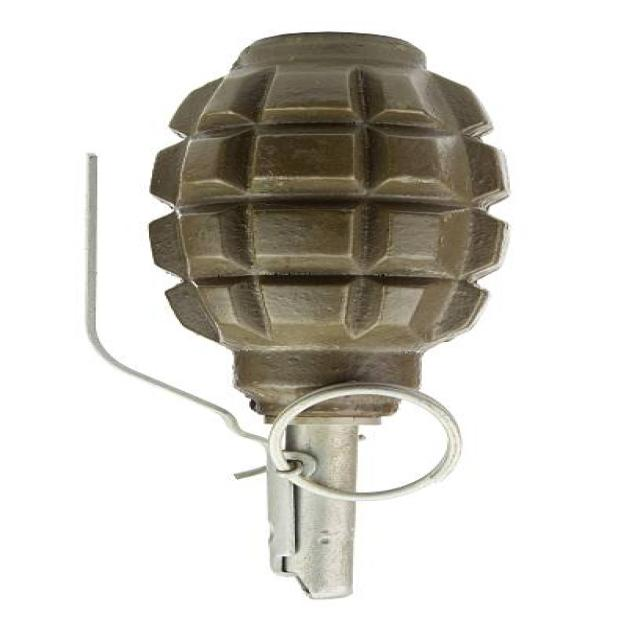grenade: (78, 32, 519, 610)
